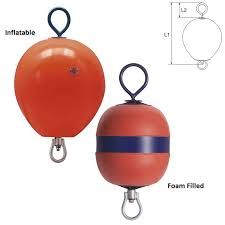buoy: (13, 37, 106, 138), (95, 105, 169, 188)
